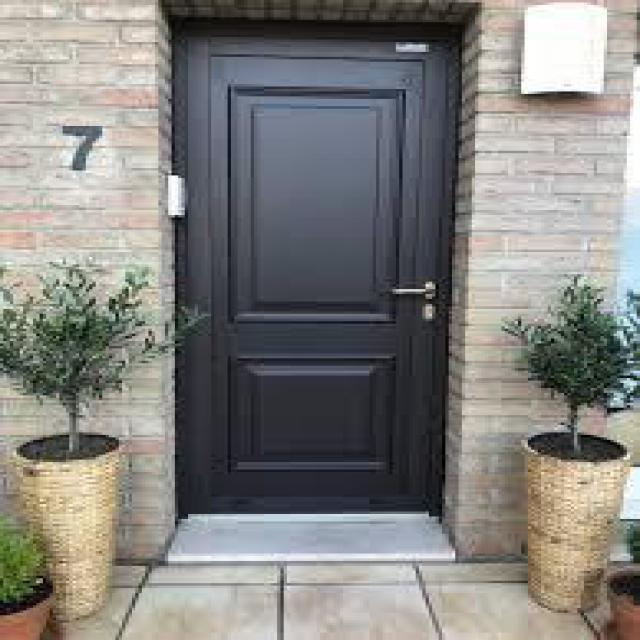door: (178, 29, 456, 517)
